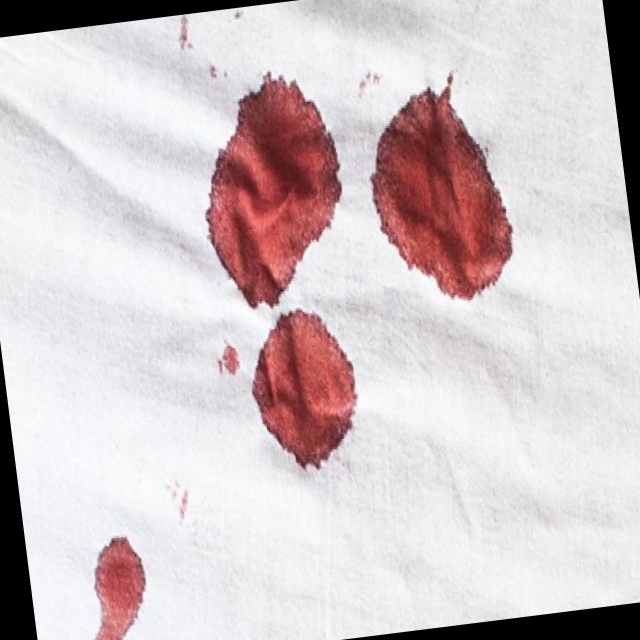blood: (191, 75, 348, 314), (365, 72, 515, 307), (247, 309, 363, 471), (68, 533, 160, 640)
